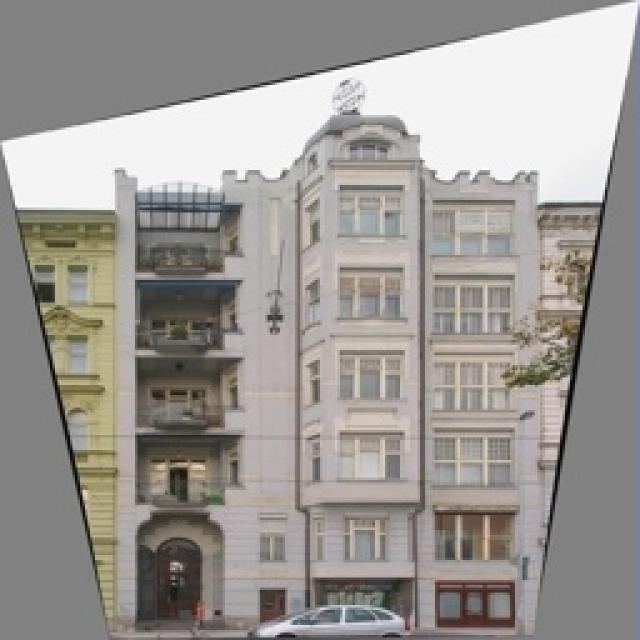building: (130, 145, 550, 640)
